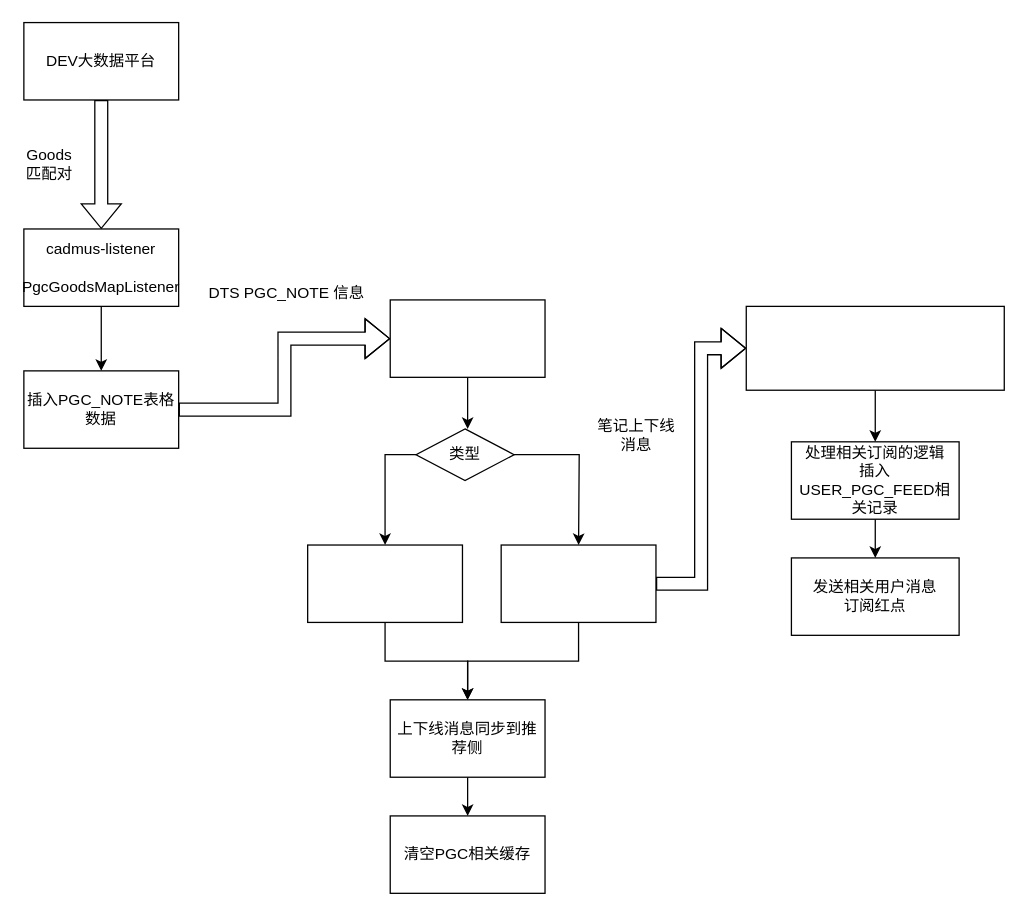
This 1027x916 diagram has some shape labels left out. The centre of each missing label's shape, as x and y in pixels:
"cadmus-dts PgcNoteProcessor" belongs at point 467,338.
"cadmus-listener PgcApprovedMsgListener PgcDisapproveMsgListener" belongs at point 874,347.
"插入数据 USER_PGC_MAP" belongs at point 578,583.
"更新数据 USER_PGC_MAP" belongs at point 384,583.
